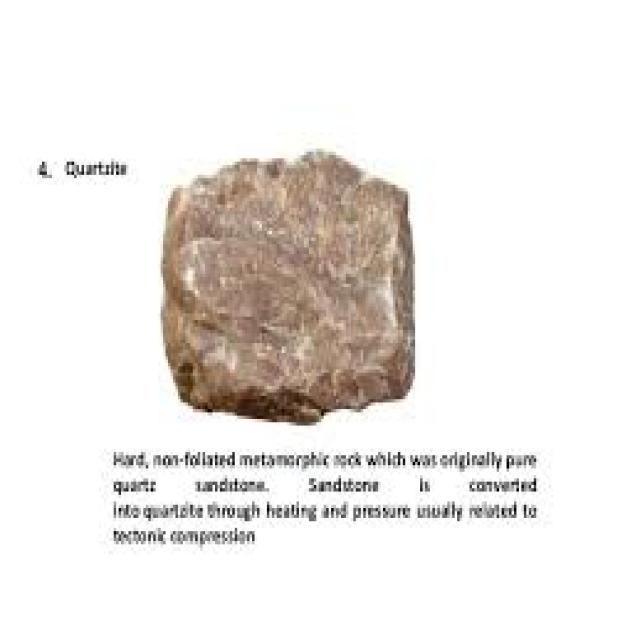Metamorphic: (151, 148, 440, 422)
